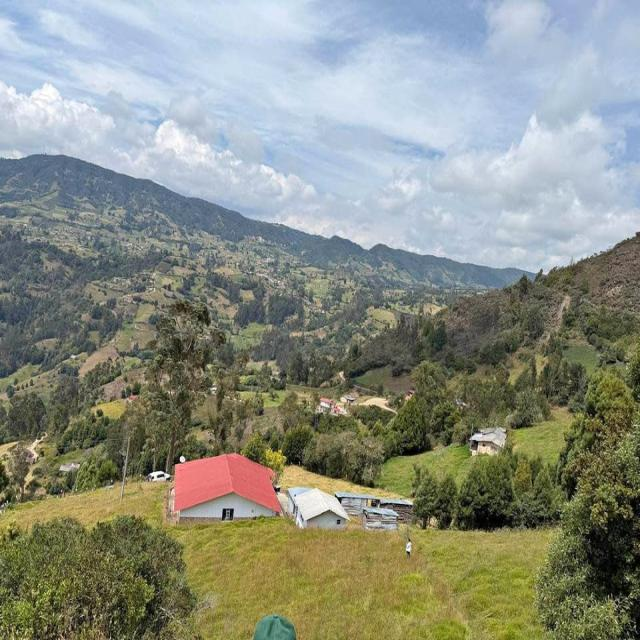Casa: (173, 453, 390, 529), (471, 428, 506, 454), (320, 398, 336, 407)
